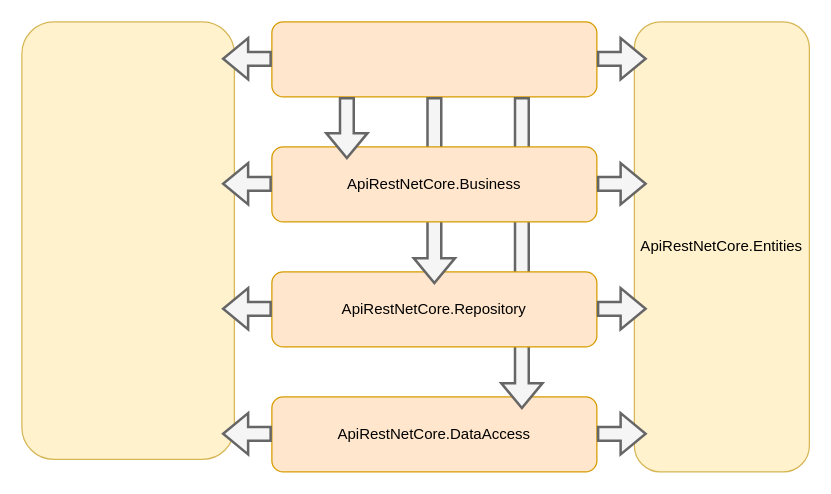
Some shapes in this 831 by 494 pixel diagram are drawn without their labels. Here are the shapes that lost their labels. From the top down, the centre of each, then its label:
(x=434, y=59): ApiRestNetCore.WebAPI
(x=127, y=240): ApiRestNetCore.Abstractions
